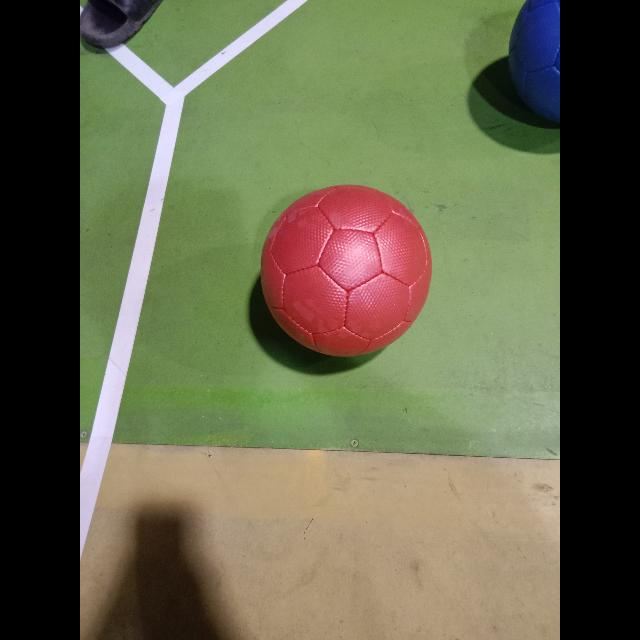B: (507, 0, 559, 124)
R: (260, 186, 432, 358)
